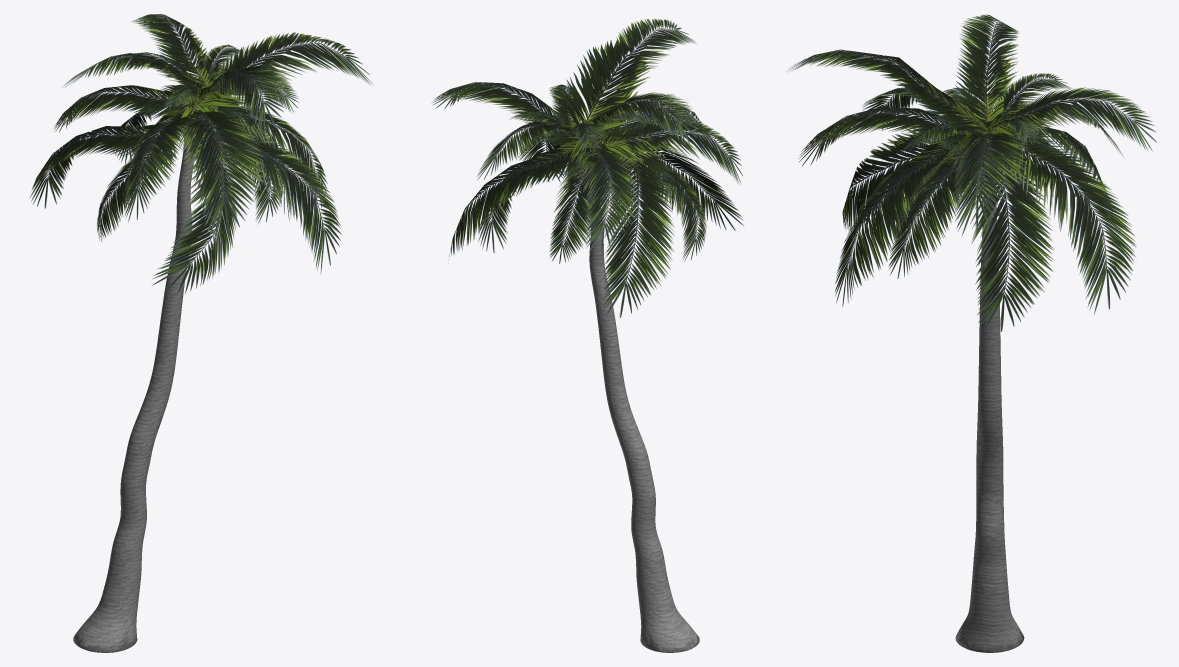
File: palm_tall.glb
3 renders of one model, left to right at view 1: azimuth 30°, elevation 25°; view 2: azimuth 150°, elevation 25°; view 3: azimuth 270°, elevation 25°, orthographic. The views are drawn at different scales.
Visible parts, largest first — view 1: Cylinder.001; view 2: Cylinder.001; view 3: Cylinder.001.
Boxes of the visible parts, box(x1,y1,x2,y2) form: Cylinder.001: box(30, 14, 373, 652); Cylinder.001: box(432, 19, 743, 652); Cylinder.001: box(786, 14, 1156, 652).
Size of the model in its own units: 2.57 by 4.5 by 2.47.
Materials: 2 (2 with a texture image).
